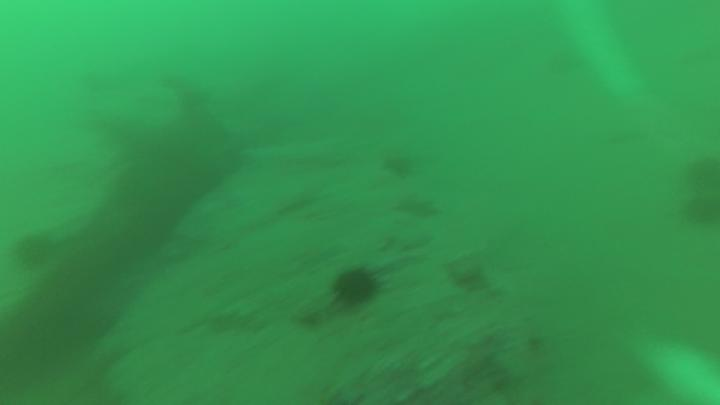echinus: (328, 260, 388, 313)
